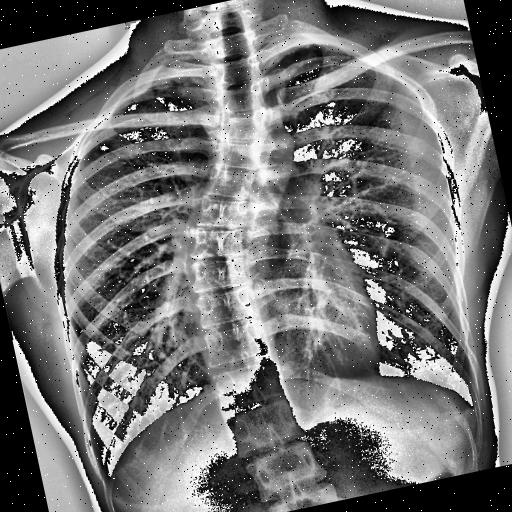11- Pleural thickening: (106, 70, 208, 114), (109, 64, 215, 104), (264, 36, 324, 68), (264, 38, 319, 68)
9- Other lesion: (145, 64, 341, 476), (158, 134, 313, 442), (158, 128, 312, 416)
